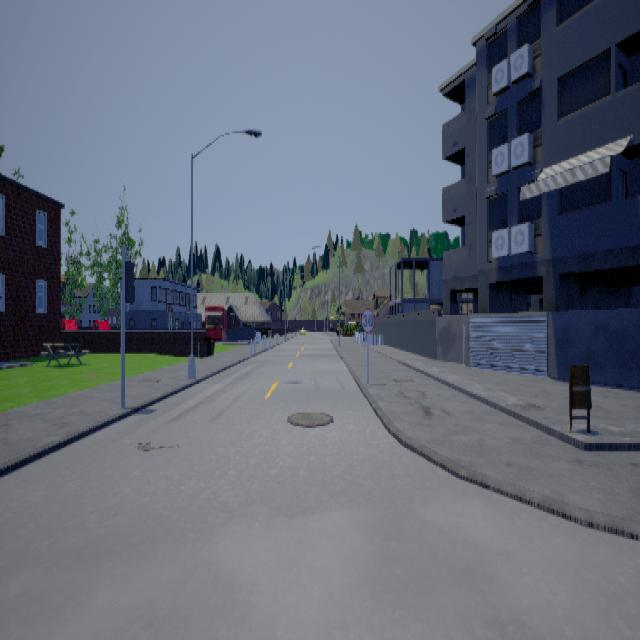traffic_sign: (359, 306, 374, 332)
